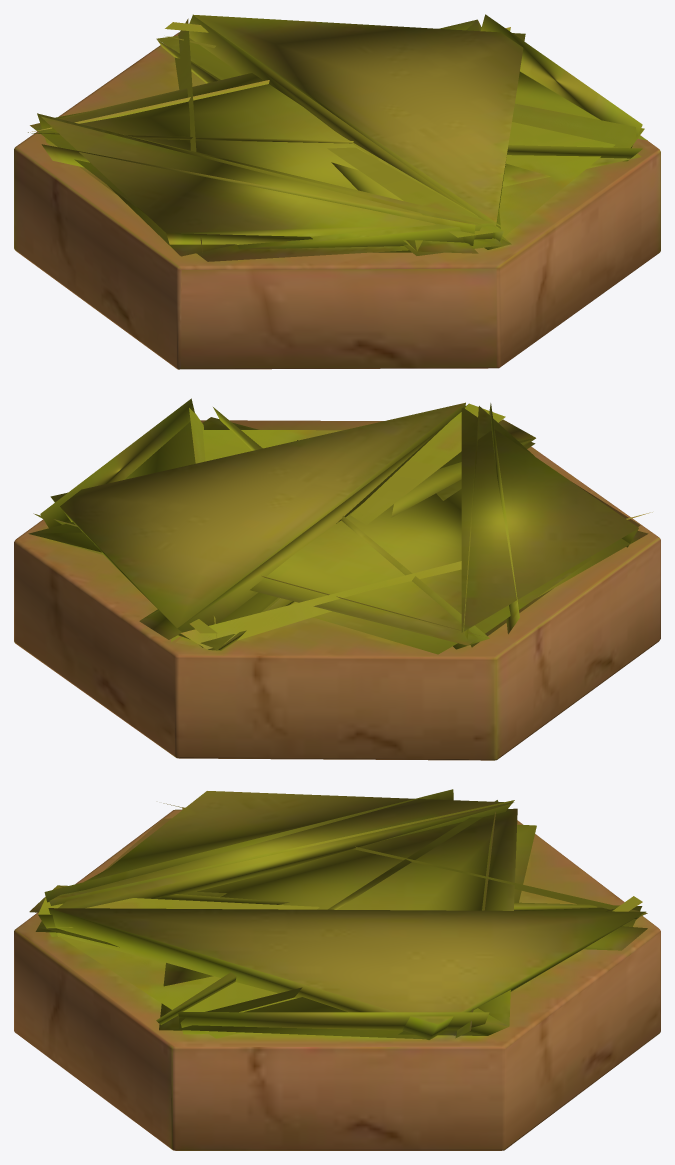
File: tile-forest.glb
3 views of the same model, one above another, from view 1: azimuth 30°, elevation 25°; view 2: azimuth 150°, elevation 25°; view 3: azimuth 270°, elevation 25° (orthographic).
Bounding box in the file's own units: 0.8296 × 0.2232 × 0.9526.
Materials: 1 (1 with a texture image).
